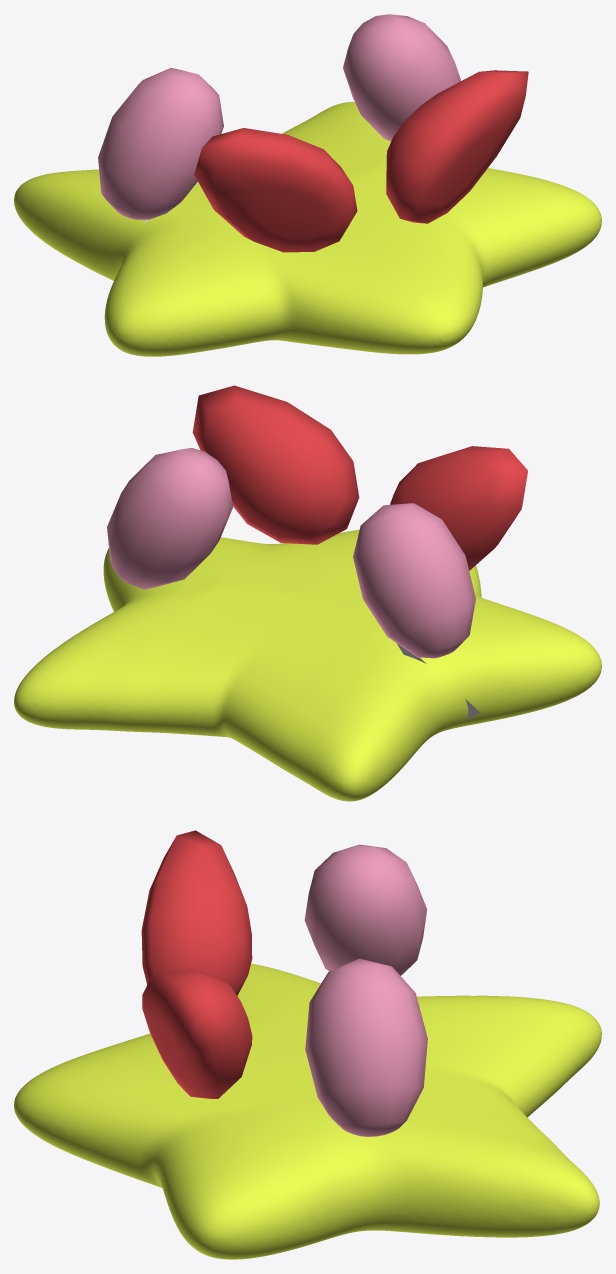
Rendered from Kirbysentado.fbx.
3 renders of one model, top to bottom at view 1: azimuth 30°, elevation 25°; view 2: azimuth 150°, elevation 25°; view 3: azimuth 270°, elevation 25°, orthographic. The views are drawn at different scales.
Visible parts, largest first — view 1: Cube, Pie derecho, Pie izq, brazo.001, brazo.002; view 2: Cube, Pie izq, brazo.001, brazo.002, Pie derecho; view 3: Cube, brazo.002, Pie derecho, brazo.001, Pie izq.
Part boxes in pixels (left/top/right/bottom): Cube: left=14, top=102, right=601, bottom=356; Pie derecho: left=194, top=128, right=357, bottom=252; Pie izq: left=386, top=70, right=528, bottom=223; brazo.001: left=98, top=68, right=223, bottom=219; brazo.002: left=343, top=14, right=461, bottom=141; Cube: left=14, top=529, right=601, bottom=801; Pie izq: left=192, top=385, right=359, bottom=544; brazo.001: left=353, top=503, right=475, bottom=658; brazo.002: left=107, top=448, right=232, bottom=589; Pie derecho: left=390, top=446, right=527, bottom=570; Cube: left=14, top=963, right=601, bottom=1259; brazo.002: left=305, top=958, right=427, bottom=1136; Pie derecho: left=141, top=830, right=252, bottom=995; brazo.001: left=304, top=844, right=427, bottom=975; Pie izq: left=142, top=968, right=252, bottom=1098.
Size of the model in its own units: 1058 by 479 by 1004.
